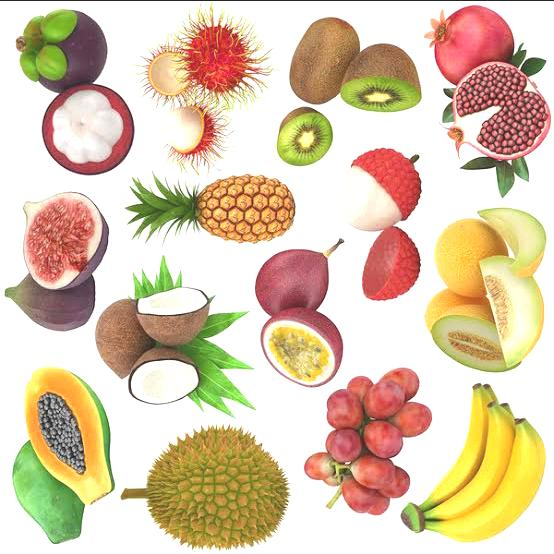chom_chom: (176, 12, 255, 105)
chuoi: (411, 380, 546, 542)
mang_cut: (16, 11, 109, 92)
sau_rieng: (145, 424, 290, 548)
